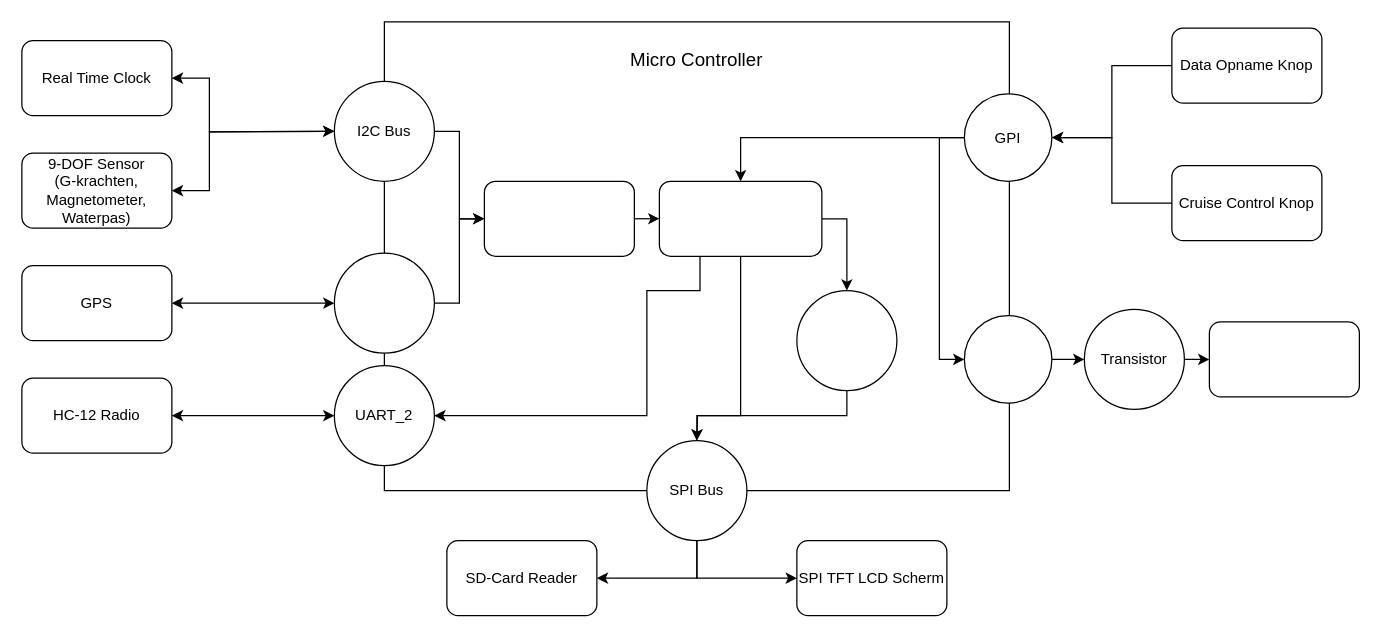
Some shapes in this 1381 by 638 pixel diagram are drawn without their labels. Each missing label, with the centre of its shape:
"Data Verwerken/Lezen" belongs at [740,218].
"GPO" belongs at [1007,358].
"Motor Controller Cruise Control" belongs at [1283,359].
"Scherm Lay-out Software" belongs at [846,340].
"Sensor Informatie" belongs at [558,218].
"UART_1" belongs at [383,302].
